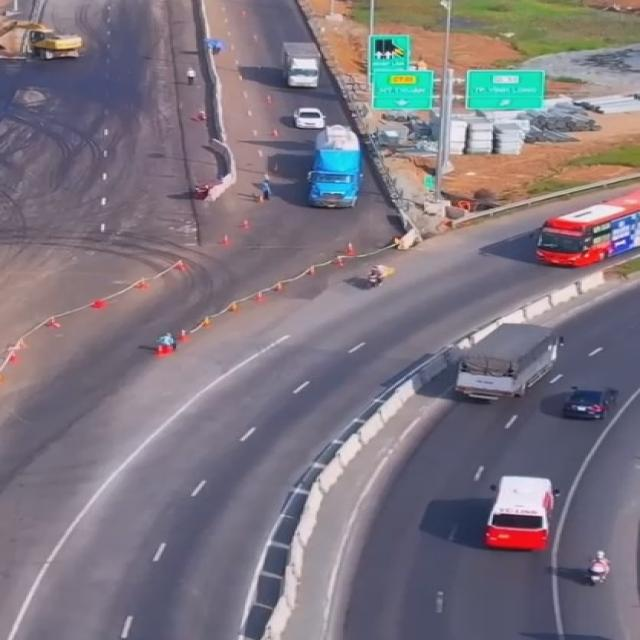bus: (531, 191, 640, 270), (476, 473, 556, 554)
car: (559, 383, 617, 422), (288, 102, 323, 130)
motorbike: (585, 548, 613, 584)
truck: (453, 318, 562, 405), (311, 121, 367, 200), (274, 42, 325, 90)
